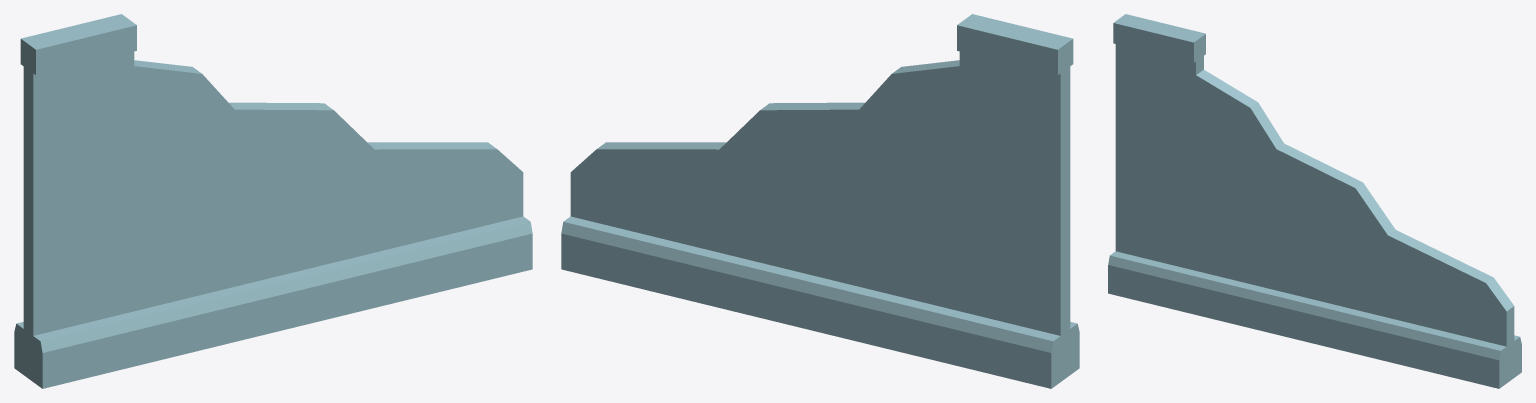
Rendered from d_kenney_muret_abime.glb.
The picture shows the model from 3 angles, left to right: view 1: azimuth 30°, elevation 25°; view 2: azimuth 150°, elevation 25°; view 3: azimuth 330°, elevation 25°; orthographic projection. The views are drawn at different scales.
Visible parts, largest first — view 1: d_kenney_muret_abime; view 2: d_kenney_muret_abime; view 3: d_kenney_muret_abime.
Boxes of the visible parts, x1,y1,x2,y2 form: d_kenney_muret_abime: (14, 14, 532, 388); d_kenney_muret_abime: (561, 14, 1079, 388); d_kenney_muret_abime: (1108, 14, 1521, 388).
Bounding box in the file's own units: 1 × 0.6519 × 0.1.
Materials: 1 (1 with a texture image).
